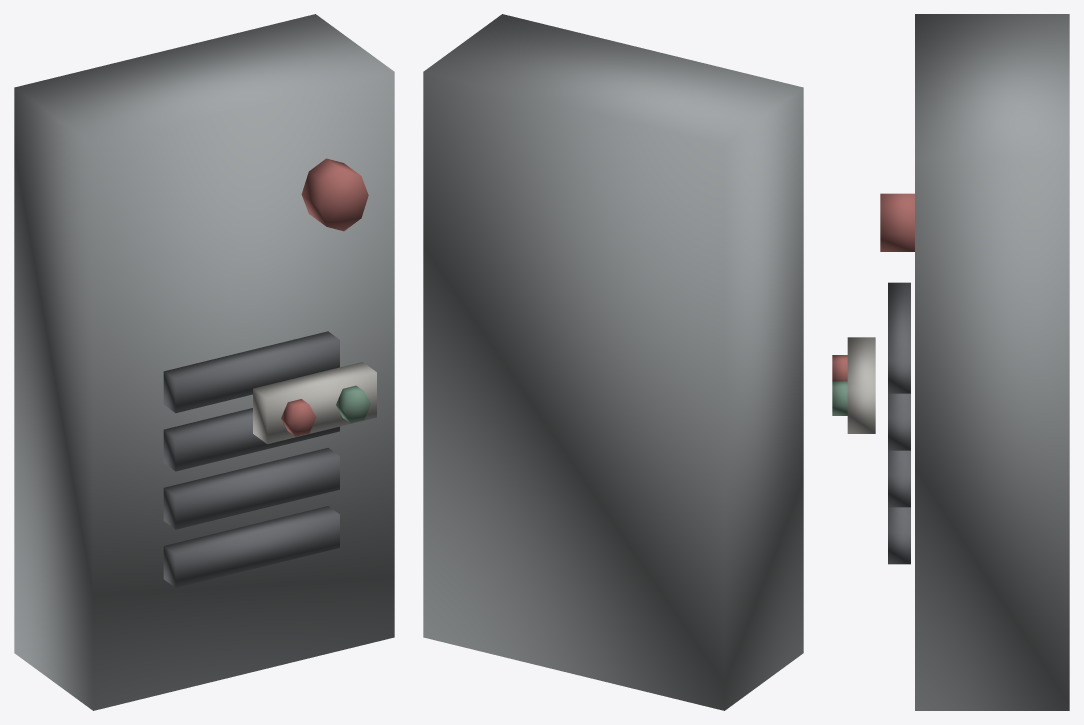
File: wall_intercom__tall.glb
The picture shows the model from 3 angles, left to right: view 1: azimuth 30°, elevation 25°; view 2: azimuth 150°, elevation 25°; view 3: azimuth 270°, elevation 25°; orthographic projection. The views are drawn at different scales.
Parts seen in each view (by area): view 1: world; view 2: world; view 3: world.
Part boxes in pixels (box(x1,y1,x2,y2)): world: box(14, 14, 394, 710); world: box(423, 14, 803, 710); world: box(832, 14, 1069, 710).
Size of the model in its own units: 0.22 by 0.3944 by 0.1535.
